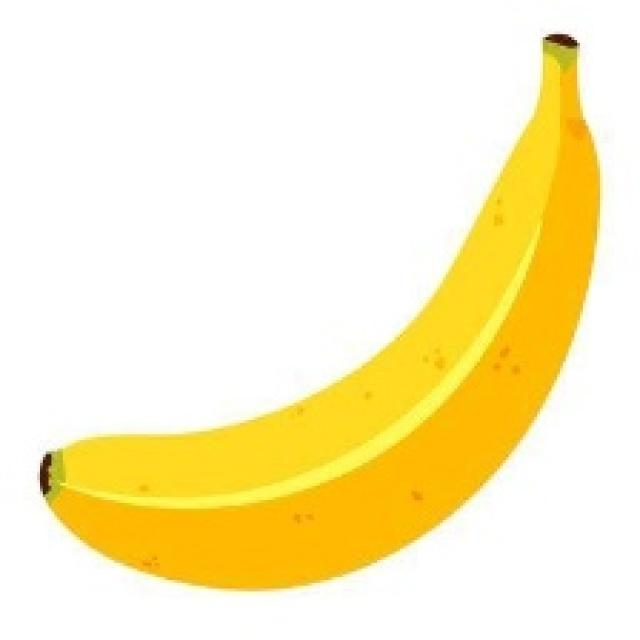Banana: (37, 31, 600, 592)
